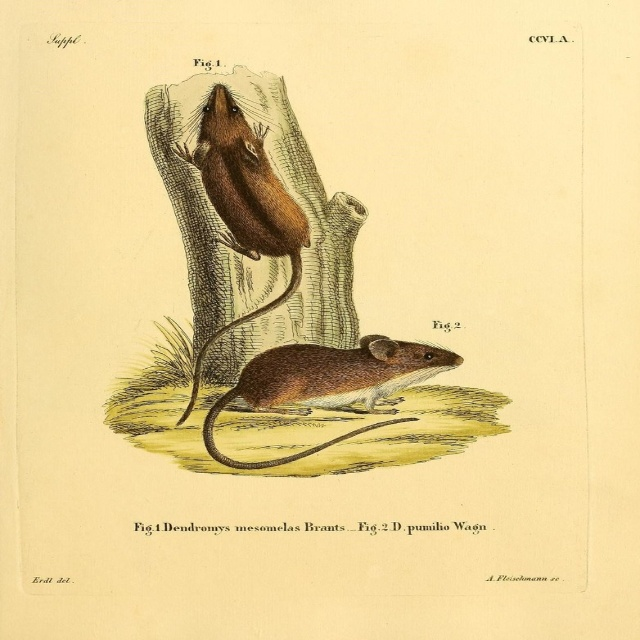Mouse: (191, 327, 461, 450)
